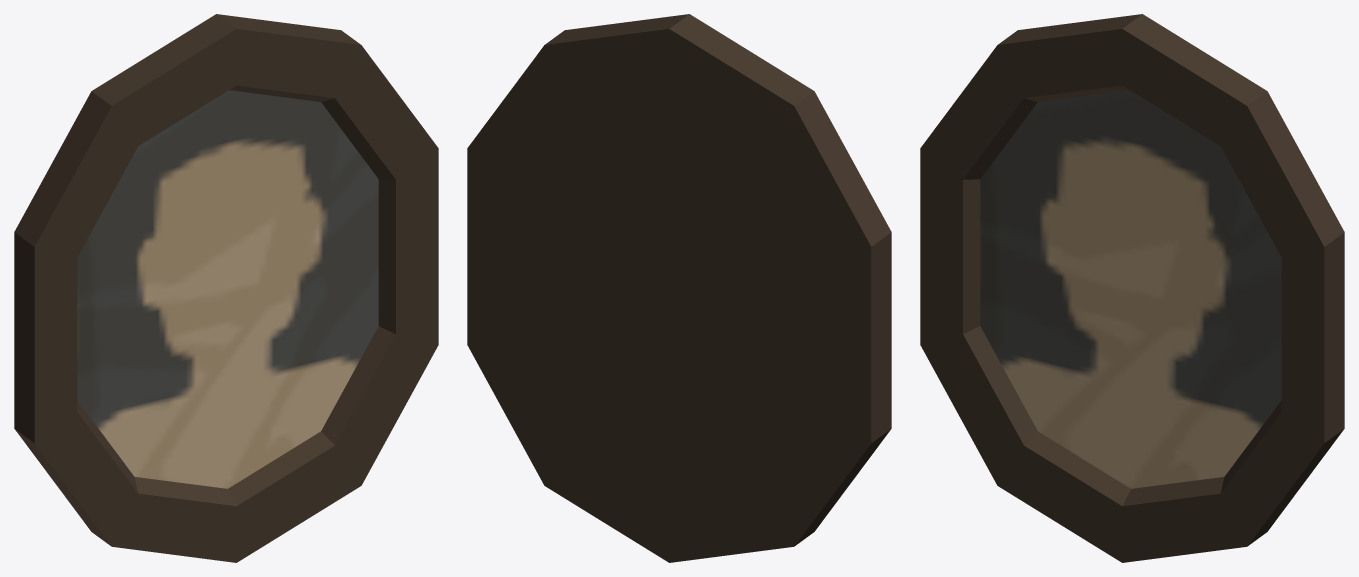
File: SM_Prop_Sign_Poster_23.fbx
The picture shows the model from 3 angles, left to right: view 1: azimuth 30°, elevation 25°; view 2: azimuth 150°, elevation 25°; view 3: azimuth 330°, elevation 25°; orthographic projection.
Visible parts, largest first — view 1: SM_Prop_Sign_Poster_23; view 2: SM_Prop_Sign_Poster_23; view 3: SM_Prop_Sign_Poster_23.
Part boxes in pixels (x1,y1,x2,y2): SM_Prop_Sign_Poster_23: (14,14,438,562); SM_Prop_Sign_Poster_23: (467,14,891,562); SM_Prop_Sign_Poster_23: (920,14,1344,562).
Size of the model in its own units: 40.12 by 50.67 by 3.49.
